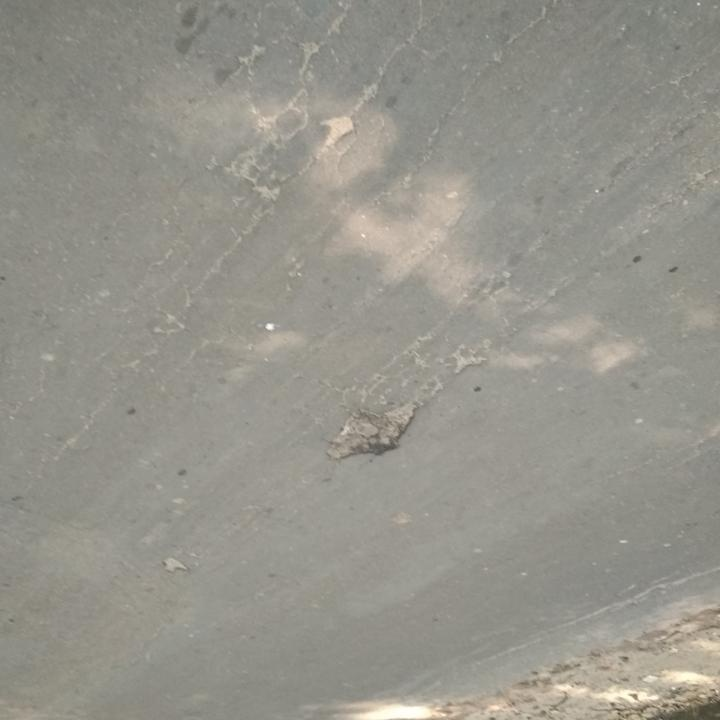pothole: (325, 398, 420, 466), (317, 113, 359, 148), (610, 665, 665, 690), (684, 651, 720, 674), (161, 556, 190, 576), (650, 710, 686, 720), (603, 710, 637, 720), (635, 696, 663, 708), (668, 685, 698, 696), (704, 706, 720, 717), (686, 716, 710, 720)
